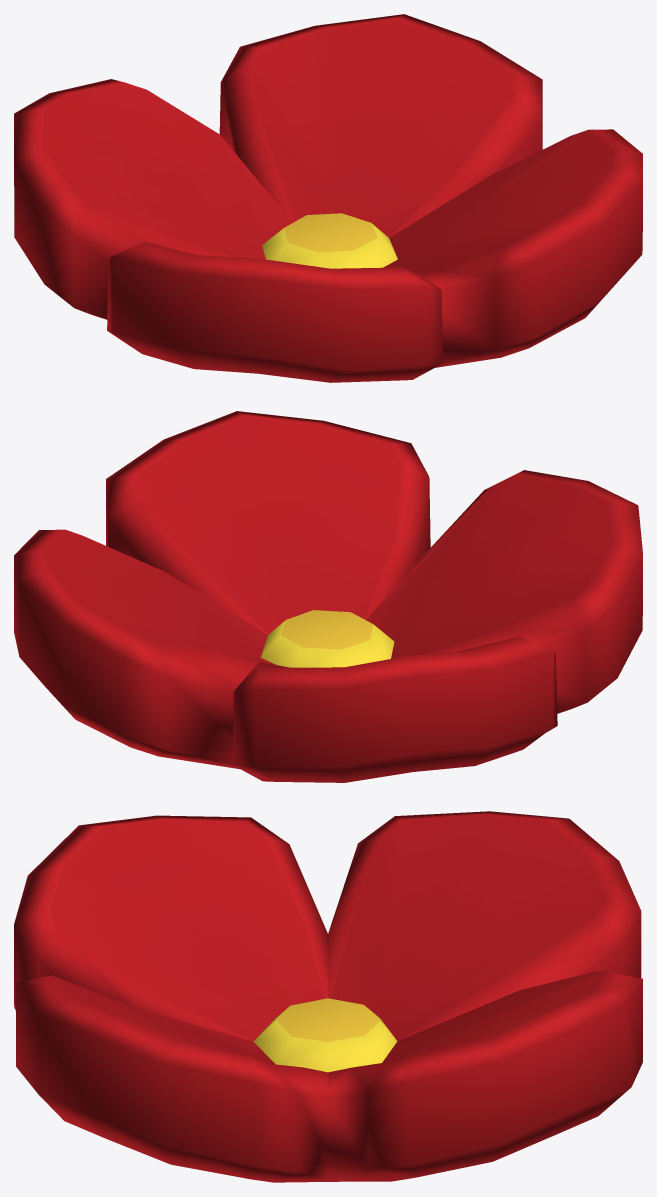
File: flower_single_red_LOD_group.fbx
3 renders of one model, top to bottom at view 1: azimuth 30°, elevation 25°; view 2: azimuth 150°, elevation 25°; view 3: azimuth 270°, elevation 25°, orthographic. The views are drawn at different scales.
Parts seen in each view (by area): view 1: flower_single_red_LOD0; view 2: flower_single_red_LOD0; view 3: flower_single_red_LOD0.
Part boxes in pixels (x1,y1,x2,y2): flower_single_red_LOD0: (14,14,642,382); flower_single_red_LOD0: (14,411,642,782); flower_single_red_LOD0: (14,811,642,1182).
Size of what is drawn, in the model's own units: 58.05 by 23.88 by 57.88.
1 material, 1 textured.
